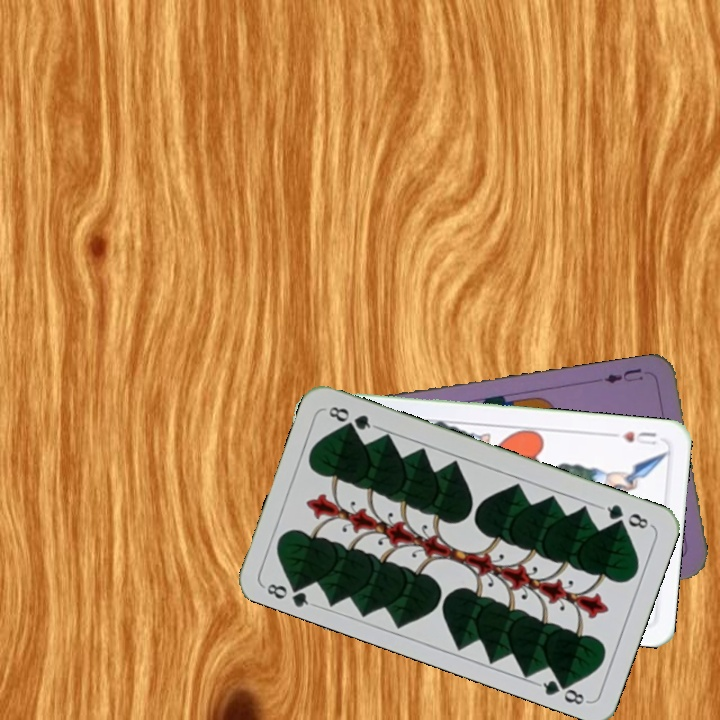EU: (600, 364, 645, 386)
G8: (260, 576, 317, 610), (597, 500, 654, 532)
HU: (618, 427, 659, 448)
